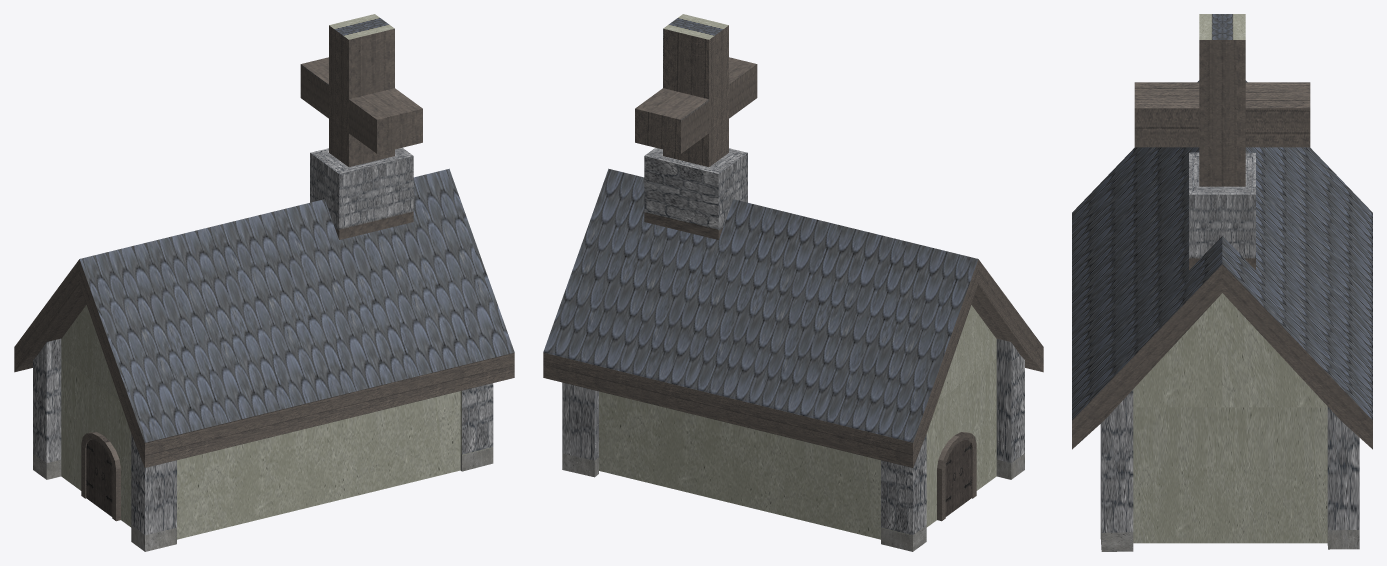
File: church.fbx
3 renders of one model, left to right at view 1: azimuth 30°, elevation 25°; view 2: azimuth 150°, elevation 25°; view 3: azimuth 270°, elevation 25°, orthographic. The views are drawn at different scales.
Visible parts, largest first — view 1: Chapel; view 2: Chapel; view 3: Chapel.
Part boxes in pixels (bbox=[...]): Chapel: bbox=[14, 14, 514, 551]; Chapel: bbox=[543, 14, 1043, 551]; Chapel: bbox=[1072, 14, 1372, 551].
Size of the model in its own units: 576 by 621 by 352.
Materials: 1 (1 with a texture image).
